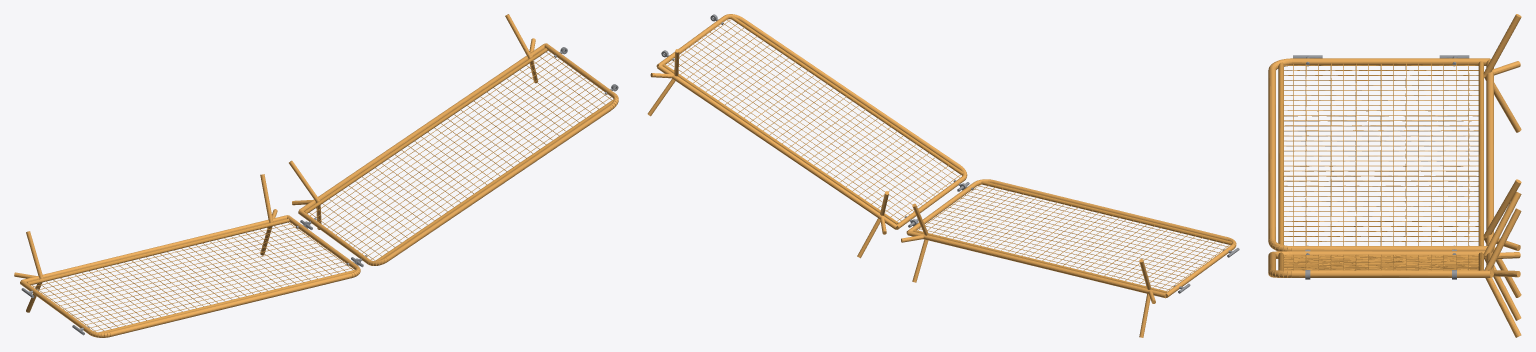
Rendered from size-panel_len_scale-1.12.glb.
The picture shows the model from 3 angles, left to right: view 1: azimuth 30°, elevation 25°; view 2: azimuth 150°, elevation 25°; view 3: azimuth 270°, elevation 25°; orthographic projection. The views are drawn at different scales.
Parts seen in each view (by area): view 1: panel_0__infill, panel_0__frame; view 2: panel_0__infill, panel_0__frame; view 3: panel_0__infill, panel_0__frame, panel_0__eye_top.
Part boxes in pixels (bbox=[...]): panel_0__infill: bbox=[27, 48, 613, 332]; panel_0__frame: bbox=[14, 14, 618, 337]; panel_0__infill: bbox=[663, 16, 1231, 292]; panel_0__frame: bbox=[647, 14, 1236, 337]; panel_0__infill: bbox=[1278, 61, 1483, 270]; panel_0__frame: bbox=[1268, 14, 1521, 337]; panel_0__eye_top: bbox=[1293, 55, 1469, 279].
Size of the model in its own units: 4.56 by 1.46 by 1.28.
